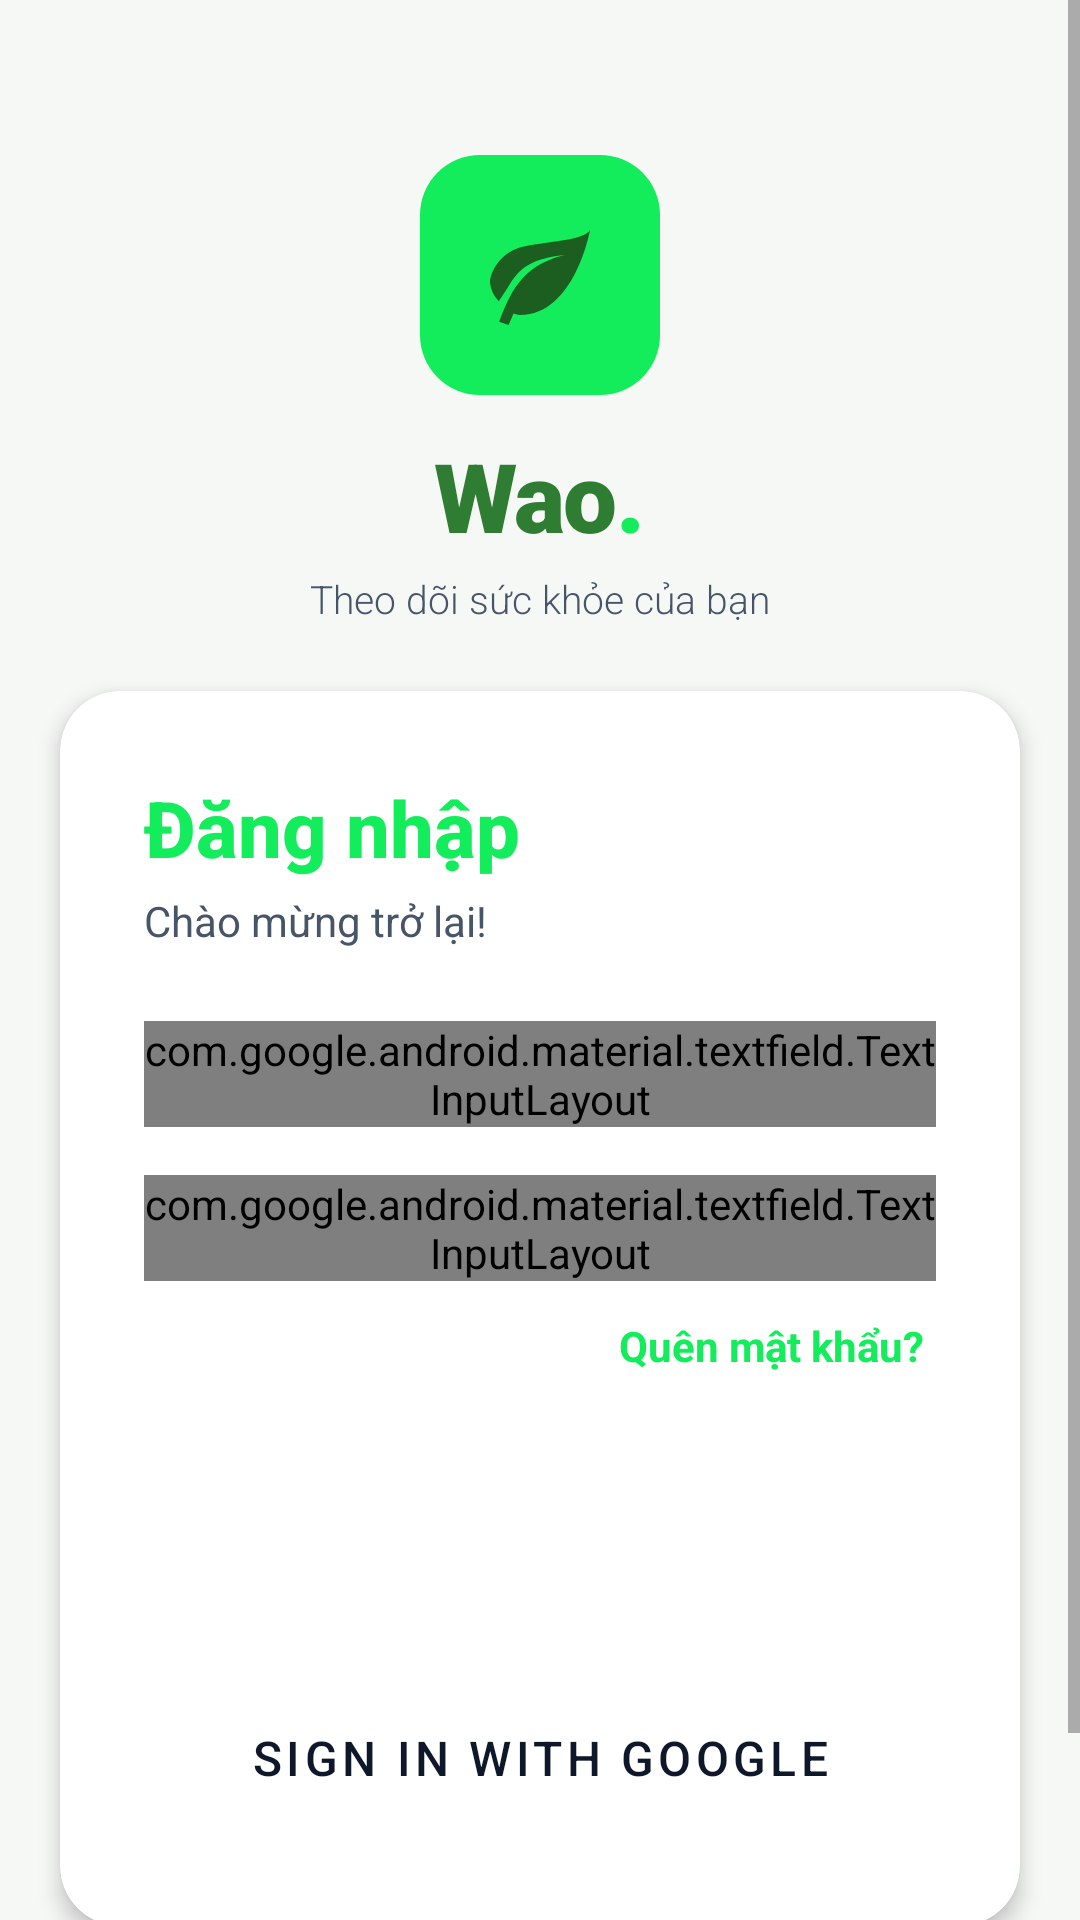

Screen size 1080w x 1920h. Icon name, then its center in pixels as point (x, y):
wao leaf: point (540, 275)
